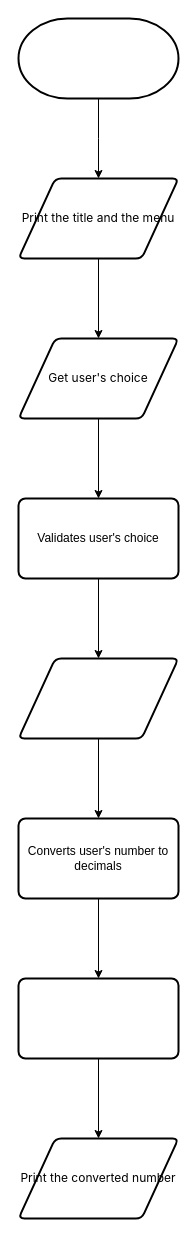
The diagram is 196 pixels wide and 1236 high, and some of its shapes have lost their labels. The centre of each missing label's shape, as x and y in pixels:
Converts decimal number to the required output base: the point at 98,1018
Get user's to be converted number: the point at 98,698
Start: the point at 98,58
